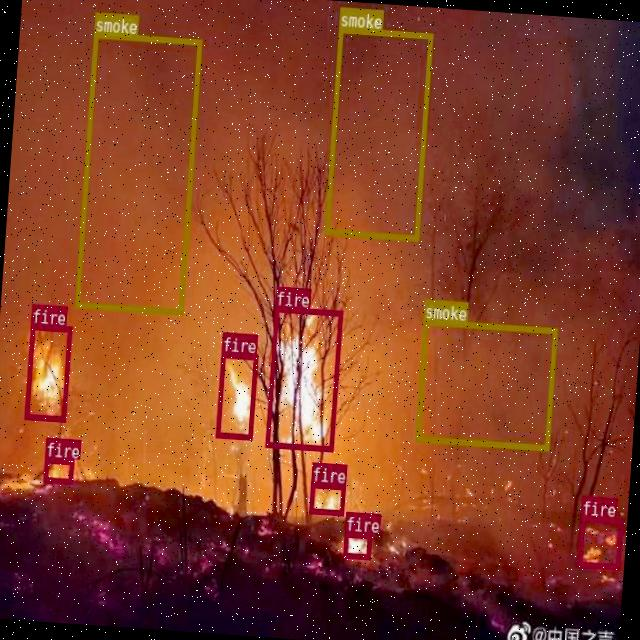fire: (264, 304, 342, 450), (24, 322, 72, 420), (214, 352, 256, 438), (576, 514, 622, 569), (308, 481, 344, 514), (342, 530, 371, 558), (42, 456, 73, 482)
smoke: (74, 30, 201, 314), (324, 26, 432, 240), (414, 318, 556, 449)
